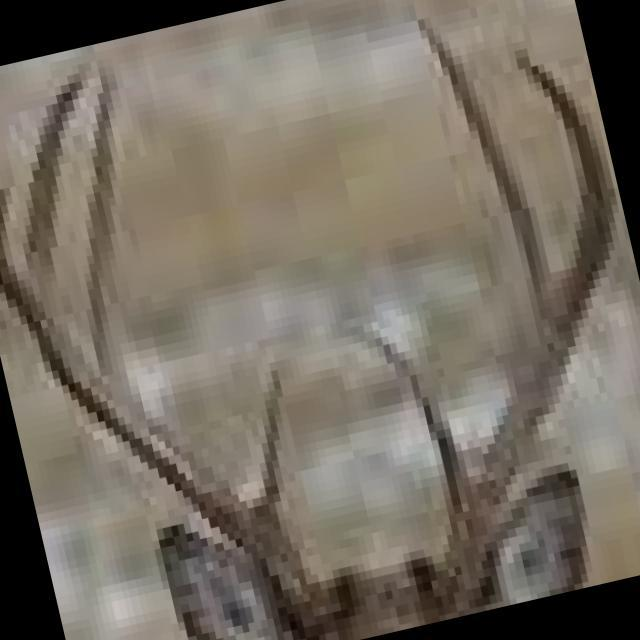L-F: (441, 44, 617, 610)
L-G1: (339, 320, 472, 524)
L-G2: (415, 15, 568, 328)
R-F: (0, 179, 341, 631)
R-G1: (249, 358, 291, 537)
R-G2: (84, 65, 138, 406)
